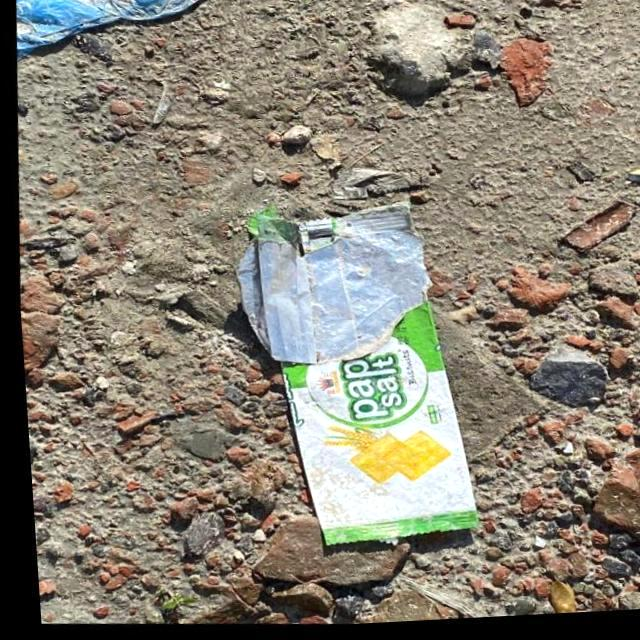packet: (232, 207, 476, 565)
